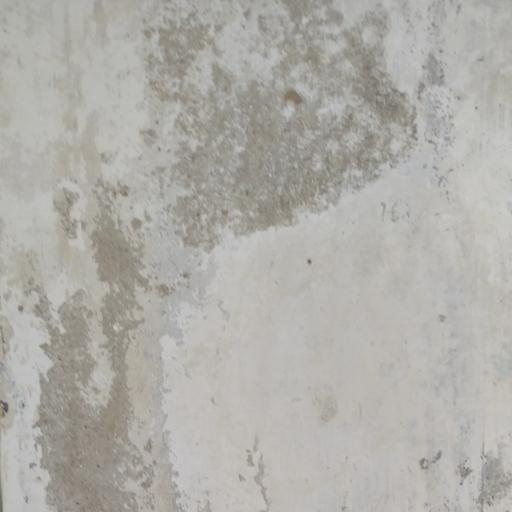spalling: (124, 26, 407, 256), (16, 187, 204, 512)
